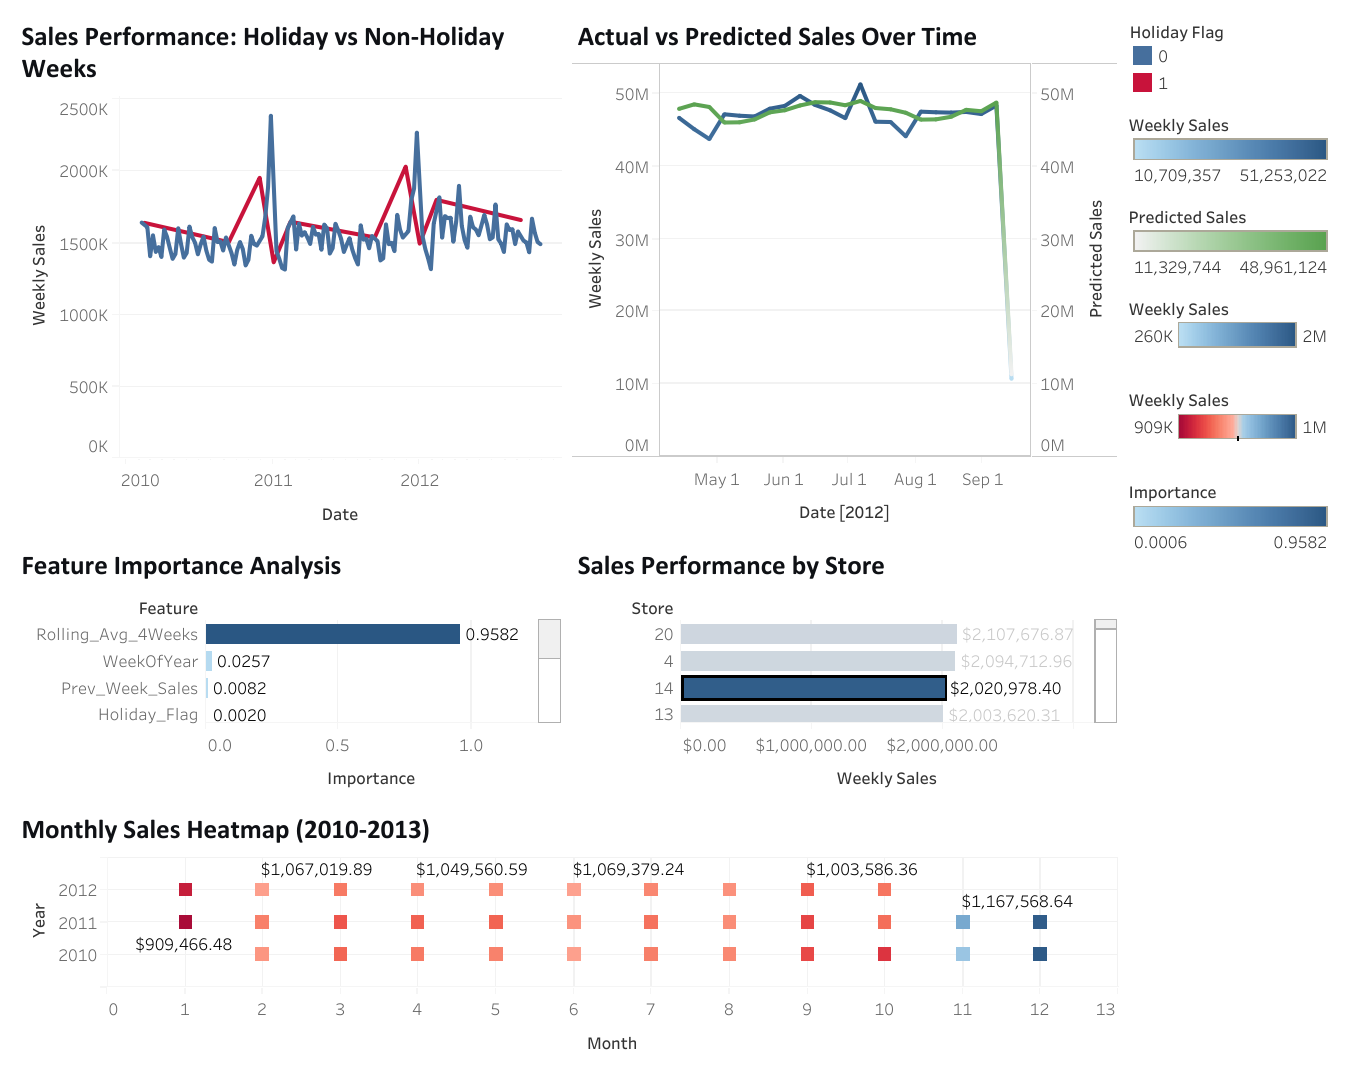

Layout of this report page (visuals, bound fields, positions):
{"tool":"tableau","page":{"name":"Dashboard 1","canvas":[1000,800],"ordinal":0},"visuals":[{"type":"worksheet","title":"Sheet 1","mark":"Automatic","rows":["Weekly_Sales"],"cols":["Date"],"box":[8,8,412,392]},{"type":"worksheet","title":"Sheet 2","mark":"Line","rows":["Weekly_Sales","Predicted_Sales"],"cols":["Date"],"box":[420,8,412,392]},{"type":"legend","title":"Sheet 1","param":"[federated.0wnxaay0qzsxnc10rueva15j372q].[none:Holiday_Flag:ok]","box":[832,8,160,67]},{"type":"legend","title":"Sheet 2","param":"[federated.1ct9l201voy3j3180vt2i0bpzjcx].[sum:Weekly_Sales:qk]","box":[832,75,160,68]},{"type":"legend","title":"Sheet 2","param":"[federated.1ct9l201voy3j3180vt2i0bpzjcx].[sum:Predicted_Sales:qk]","box":[832,143,160,68]},{"type":"legend","title":"Sheet 4","param":"[federated.1hcx3i518a15c813ym53s1cryp09].[sum:Weekly_Sales:qk]","box":[832,211,160,68]},{"type":"legend","title":"Sheet 5","param":"[federated.1xl6vqx1d0tcie10pt4aw0t8mwg3].[sum:Weekly_Sales:qk]","box":[832,279,160,68]},{"type":"legend","title":"Sheet 3","param":"[federated.0jqxw0a05uec4a1fvn8kp1x9c4np].[sum:importance:qk]","box":[832,347,160,68]},{"type":"worksheet","title":"Sheet 3","mark":"Automatic","rows":["feature"],"cols":["importance"],"box":[8,400,412,196]},{"type":"worksheet","title":"Sheet 4","mark":"Automatic","rows":["Store"],"cols":["Weekly_Sales"],"box":[420,400,412,196]},{"type":"worksheet","title":"Sheet 5","mark":"Square","rows":["Year"],"cols":["Month"],"box":[8,596,824,196]}]}

Visuals, with their boxes in screenshot pixels (x1, y1, x2, y2), scaled from the page's 1000x800 canvas onto the 1349x1079 screenshot:
"Sheet 1" worksheet: 11 11 567 540
"Sheet 2" worksheet (Line marks): 567 11 1122 540
"Sheet 1" legend: 1122 11 1338 101
"Sheet 2" legend: 1122 101 1338 193
"Sheet 2" legend: 1122 193 1338 285
"Sheet 4" legend: 1122 285 1338 376
"Sheet 5" legend: 1122 376 1338 468
"Sheet 3" legend: 1122 468 1338 560
"Sheet 3" worksheet: 11 540 567 804
"Sheet 4" worksheet: 567 540 1122 804
"Sheet 5" worksheet (Square marks): 11 804 1122 1068
